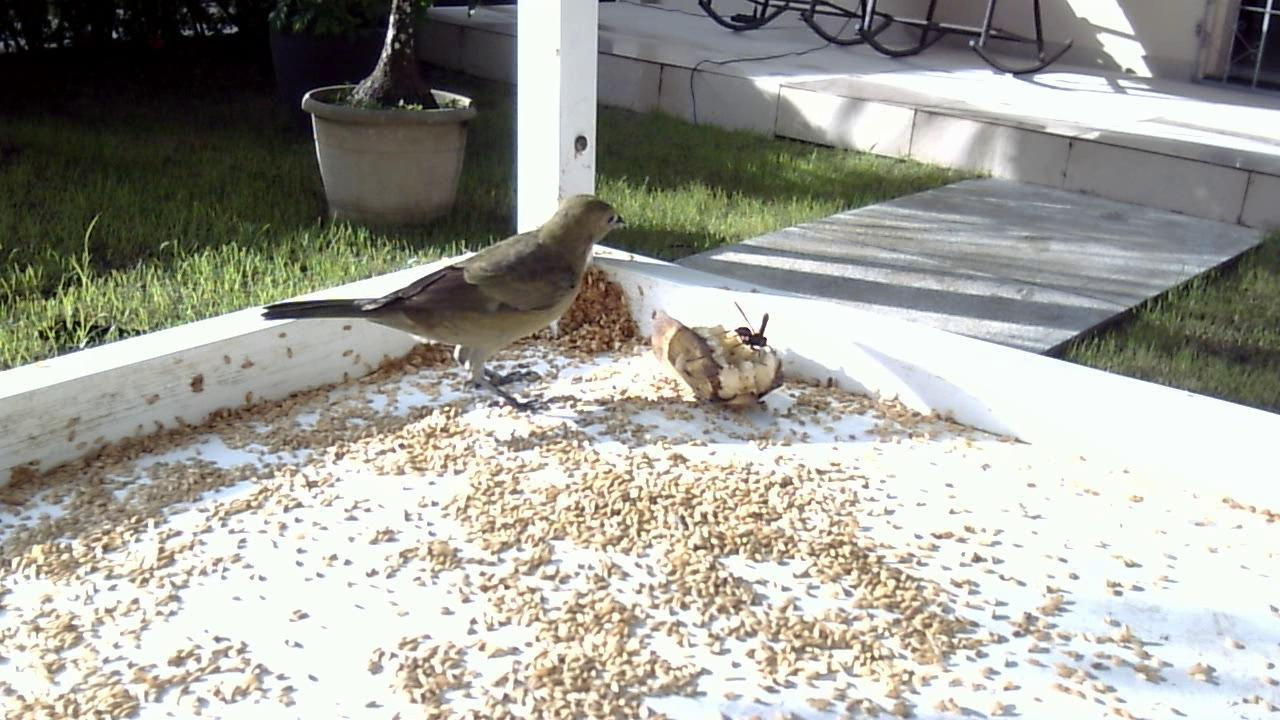sanhaco_do_coqueiro: (260, 179, 628, 411)
